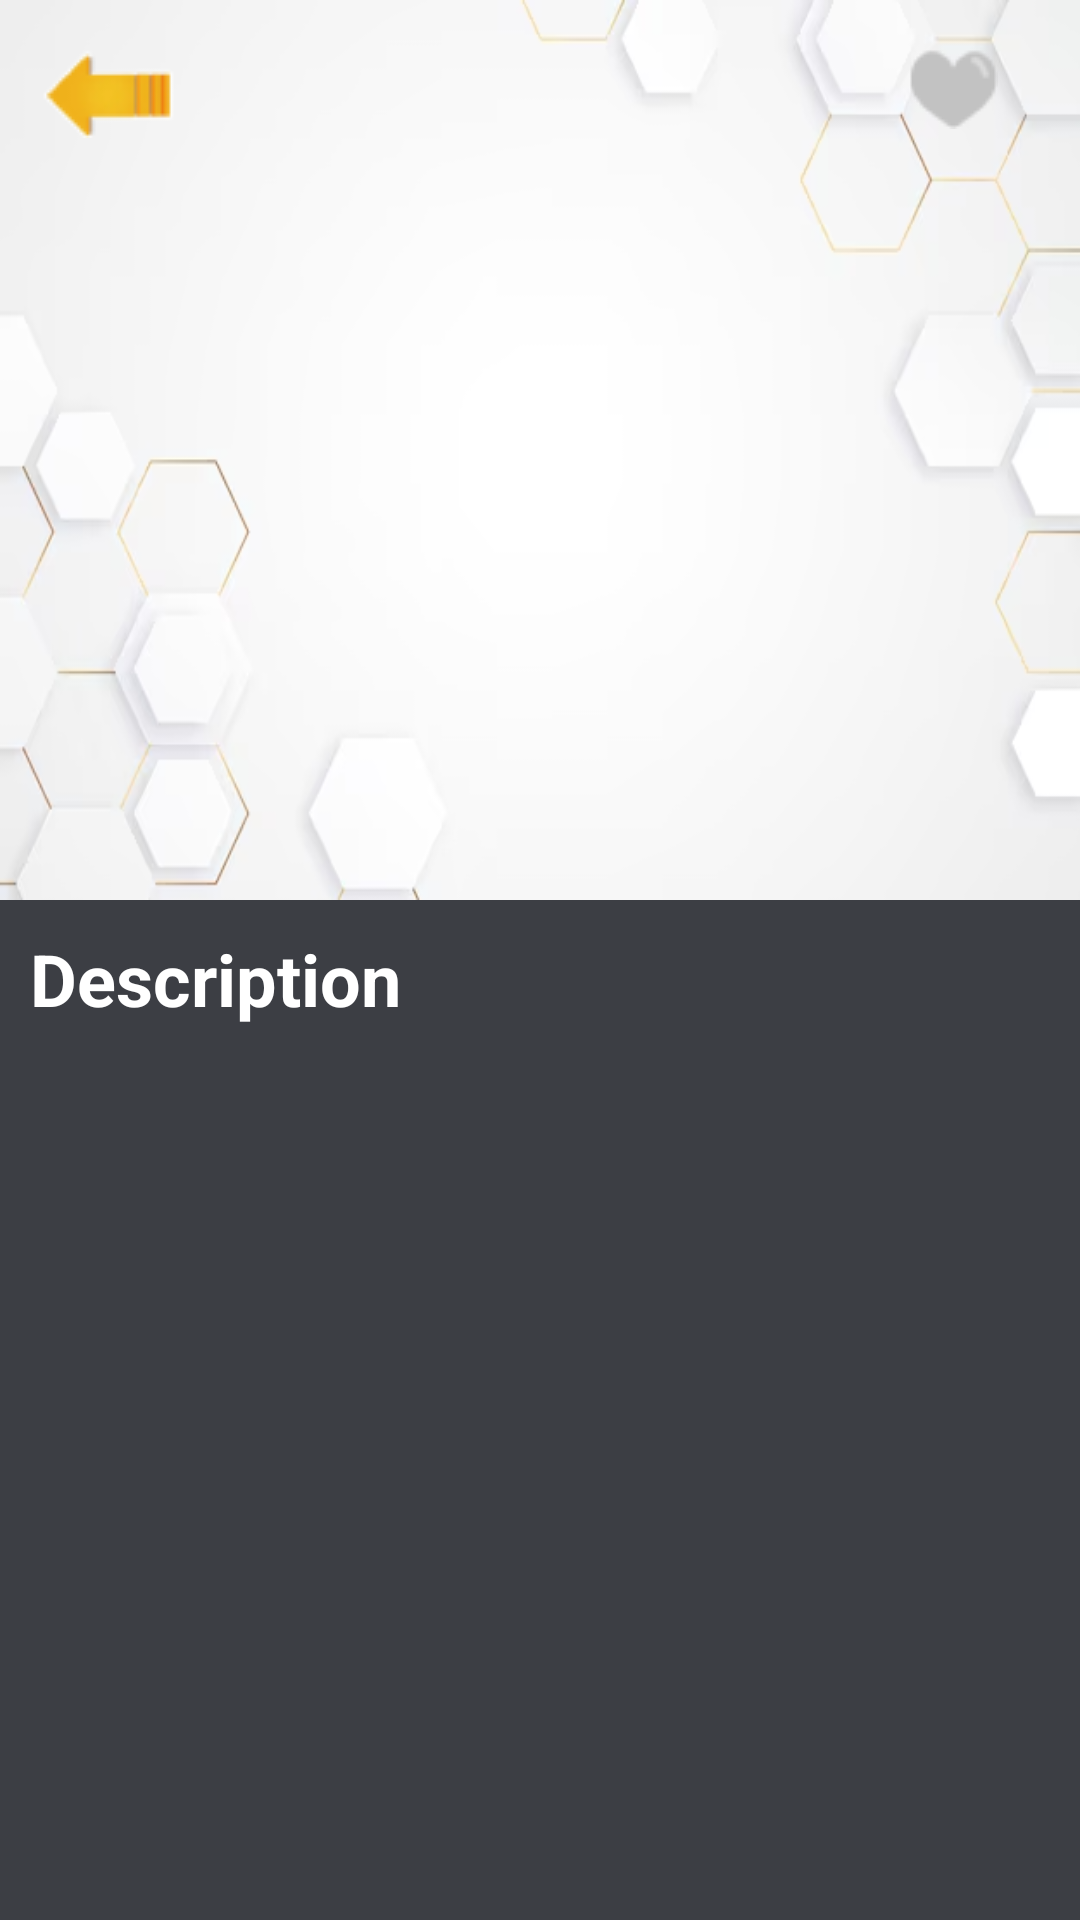

Icon click points for this 1080px x 1920px phone screenshot, format point (x, y):
Button back: point (108, 95)
Favorite button: point (966, 74)
